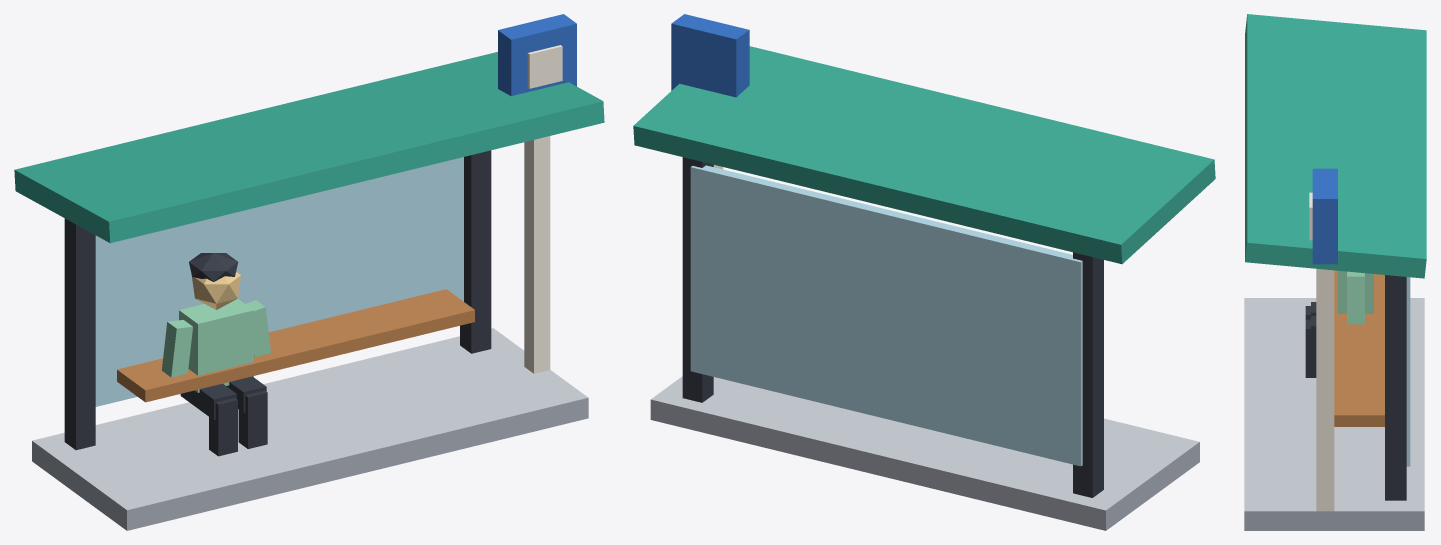
Rendered from prop_bus_stop.glb.
3 renders of one model, left to right at view 1: azimuth 30°, elevation 25°; view 2: azimuth 150°, elevation 25°; view 3: azimuth 270°, elevation 25°, orthographic. The views are drawn at different scales.
Visible parts, largest first — view 1: prop_bus_stop; view 2: prop_bus_stop; view 3: prop_bus_stop.
Boxes of the visible parts, x1=… form: prop_bus_stop: x1=14, y1=14, x2=604, y2=530; prop_bus_stop: x1=633, y1=14, x2=1215, y2=530; prop_bus_stop: x1=1244, y1=14, x2=1426, y2=530.
Size of the model in its own units: 0.305 by 0.21 by 0.1011.
